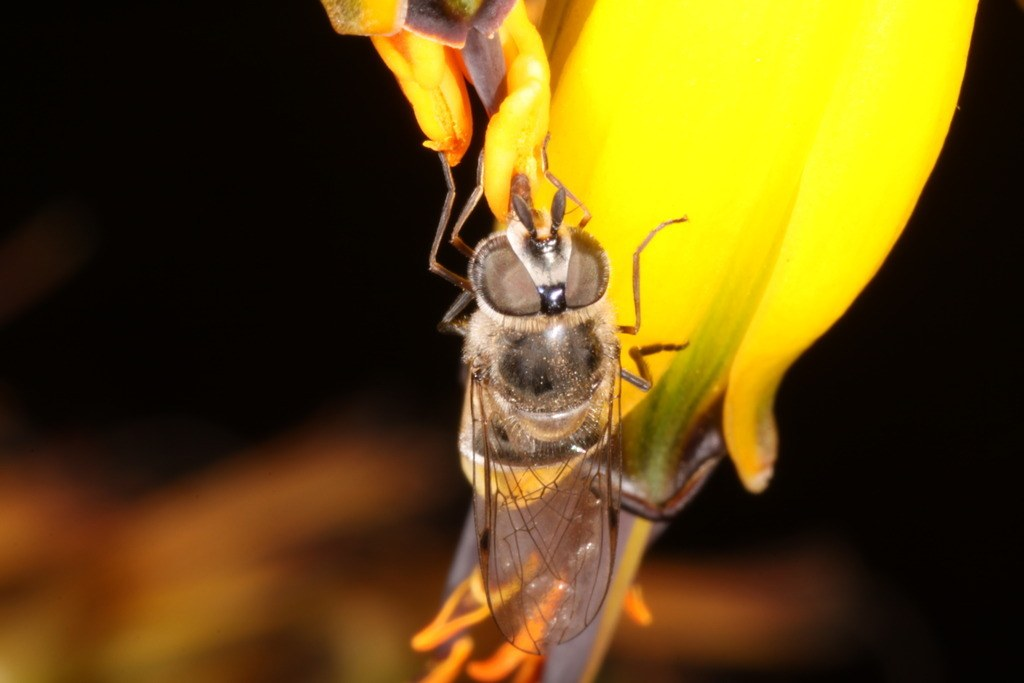bee: (417, 130, 720, 649)
